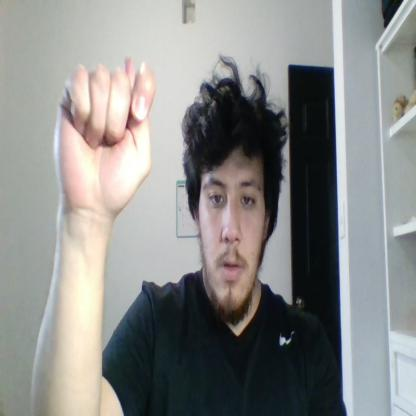T: (54, 54, 155, 217)
